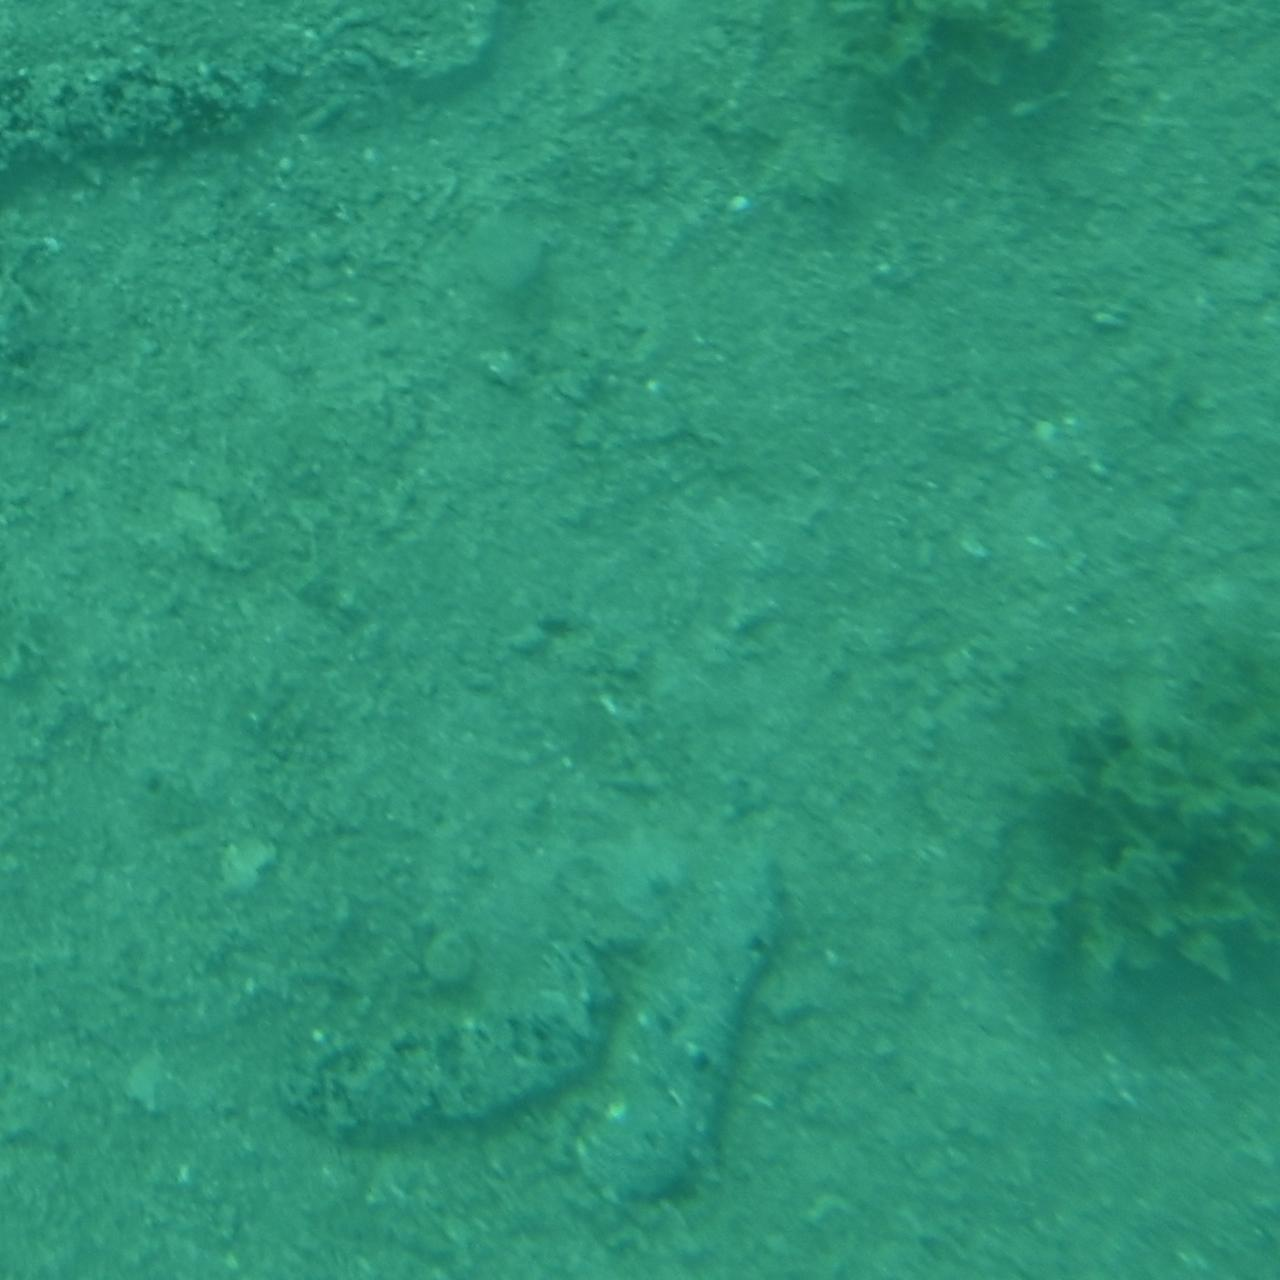Holothuria tubulosa: (572, 753, 808, 1232), (0, 53, 312, 392), (277, 958, 640, 1158)
Phaeophyceae -cfr Cystoseira-: (986, 636, 1280, 1048)
